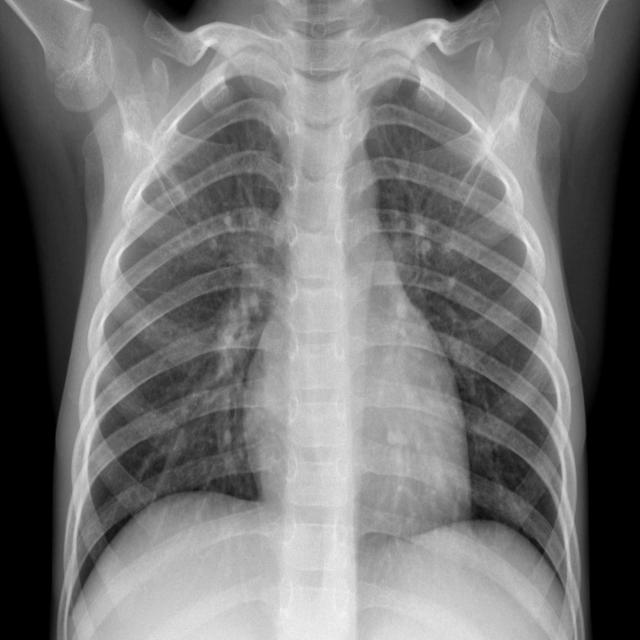no-pneumonia: (67, 64, 286, 596), (364, 76, 579, 587)
